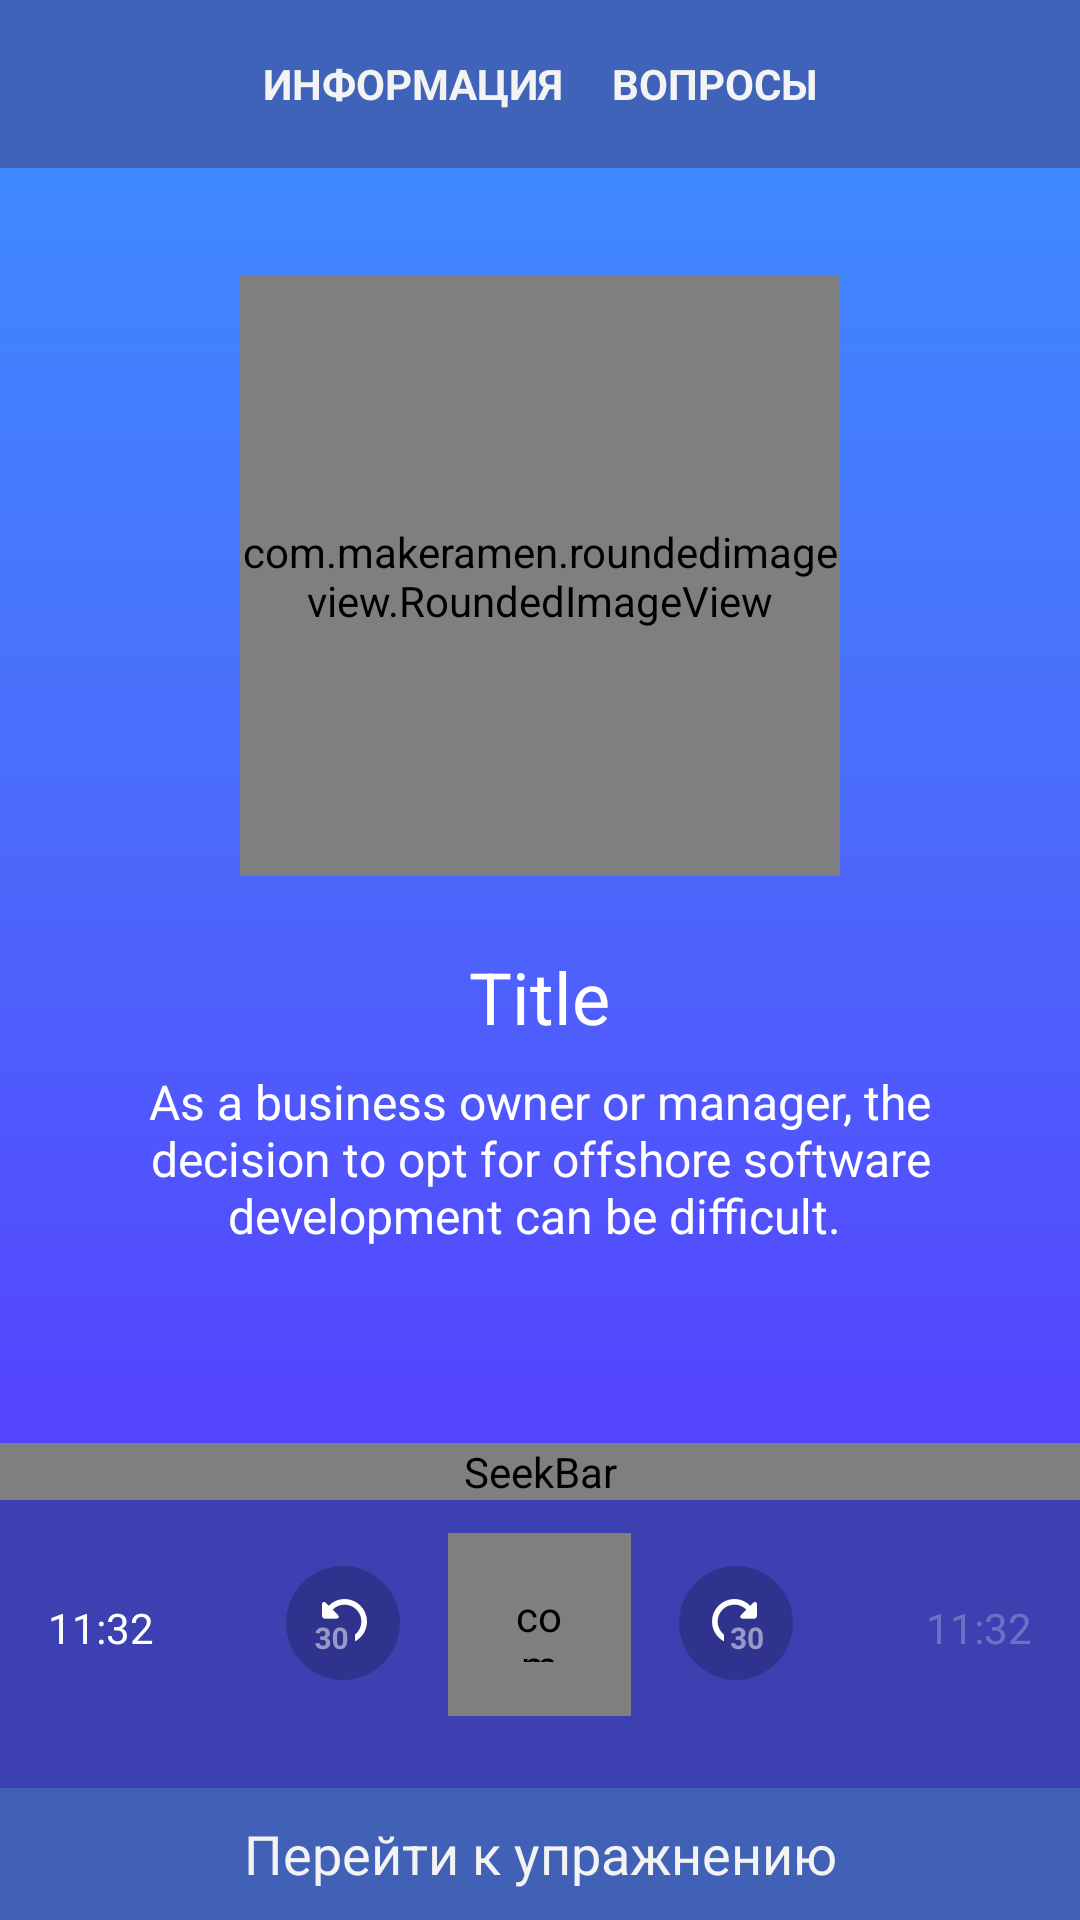

Screen size 1080px×1920px. Icon name, then its center in pixels as point (x, y):
next: point (736, 1623)
prev: point (343, 1623)
